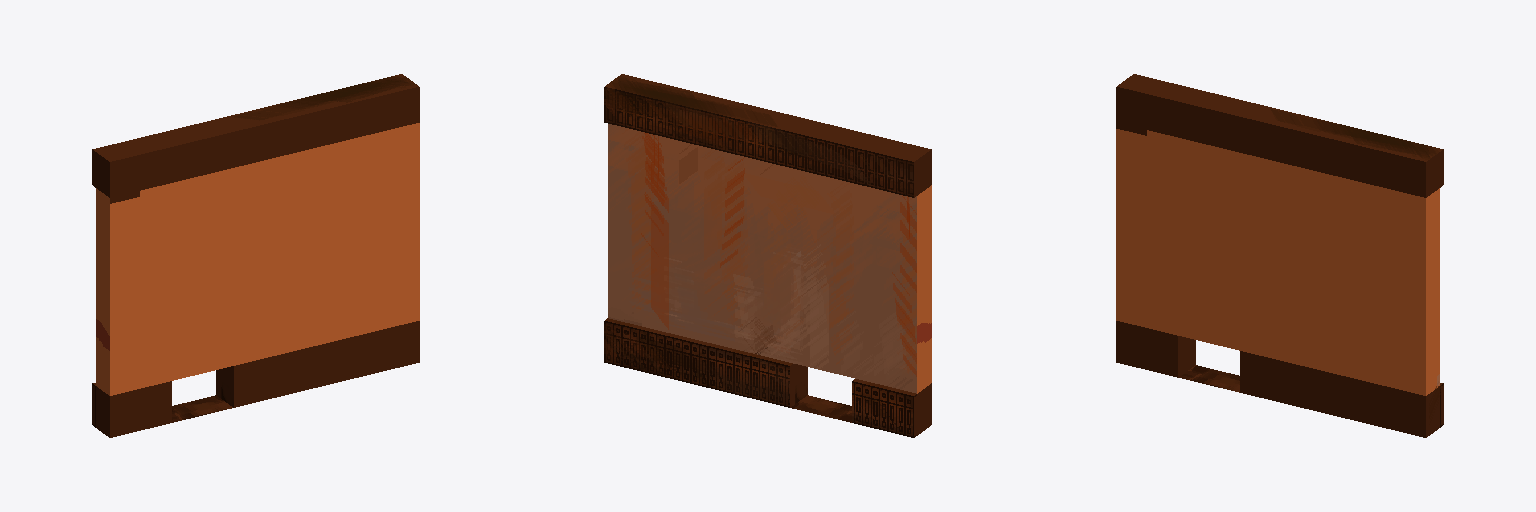
3 renders of one model, left to right at view 1: azimuth 30°, elevation 25°; view 2: azimuth 150°, elevation 25°; view 3: azimuth 330°, elevation 25°, orthographic.
Parts seen in each view (by area): view 1: cuboid; view 2: cuboid; view 3: cuboid.
Boxes of the visible parts, <box> form: cuboid: <box>92,74,419,437</box>; cuboid: <box>604,74,931,437</box>; cuboid: <box>1116,74,1443,437</box>.
Bounding box in the file's own units: 3.38 × 2.88 × 0.3281.
Materials: 1 (1 with a texture image).